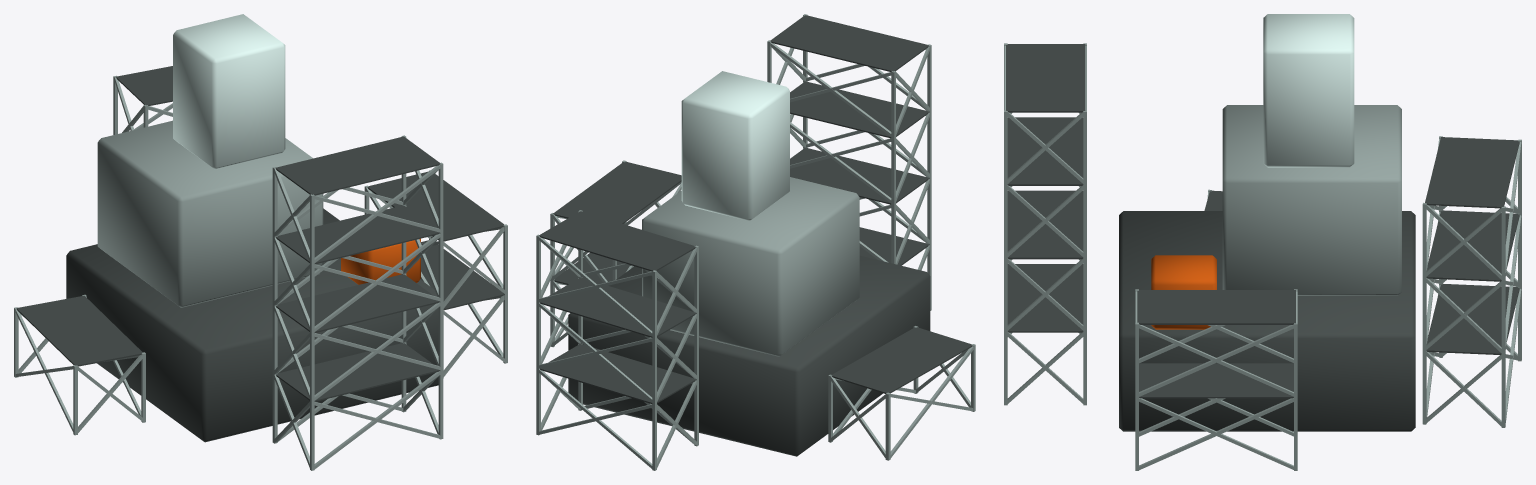
Rendered from Building_Scaffolding.fbx.
3 renders of one model, left to right at view 1: azimuth 30°, elevation 25°; view 2: azimuth 150°, elevation 25°; view 3: azimuth 270°, elevation 25°, orthographic. The views are drawn at different scales.
Visible parts, largest first — view 1: Building_Scaffolding; view 2: Building_Scaffolding; view 3: Building_Scaffolding.
Part boxes in pixels (x1,y1,x2,y2): Building_Scaffolding: (14,14,507,470); Building_Scaffolding: (536,14,975,470); Building_Scaffolding: (1004,14,1521,470).
Bounding box in the file's own units: 1.55 × 1.17 × 1.63.
